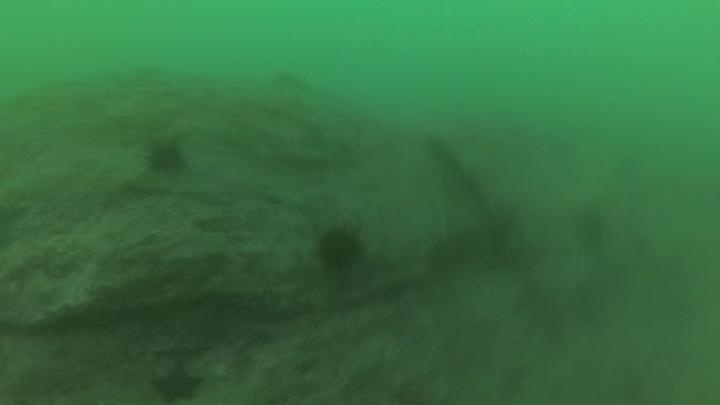echinus: (315, 225, 366, 275), (573, 206, 610, 251), (145, 139, 188, 177)
starfish: (149, 359, 206, 404)
